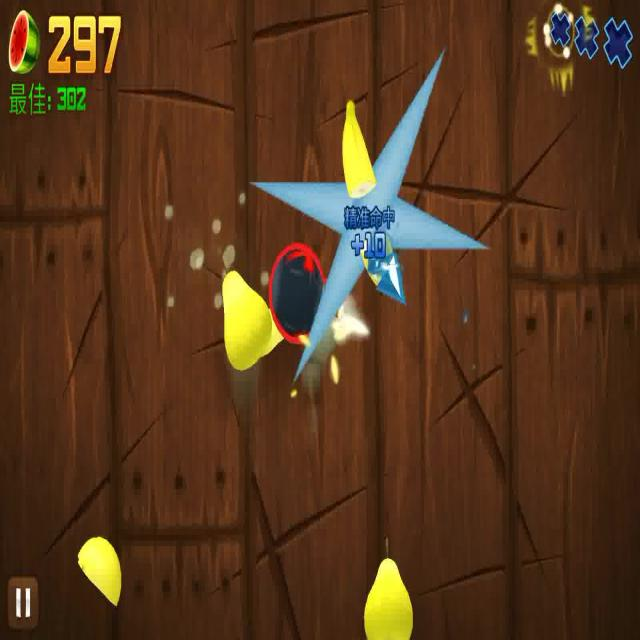bomb: (269, 233, 351, 359)
fruit: (218, 271, 269, 376), (365, 555, 413, 640), (76, 535, 123, 618), (339, 102, 378, 197)
